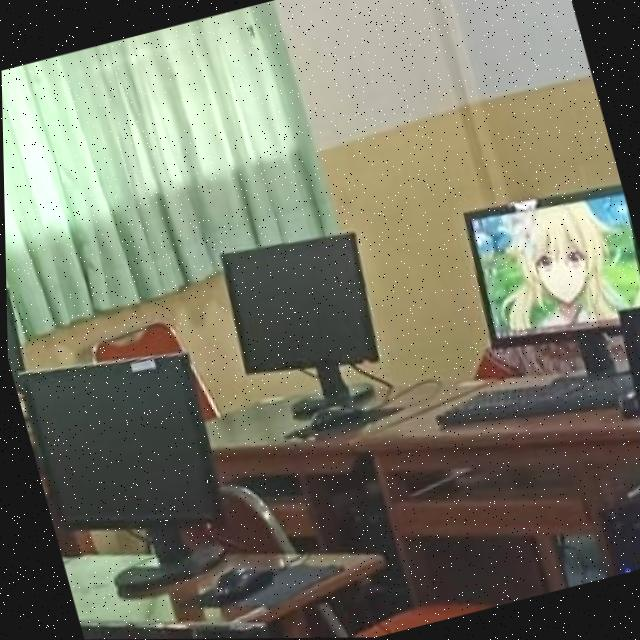offscreen: (21, 355, 215, 527), (220, 234, 376, 372)
onscreen: (464, 185, 640, 345)
